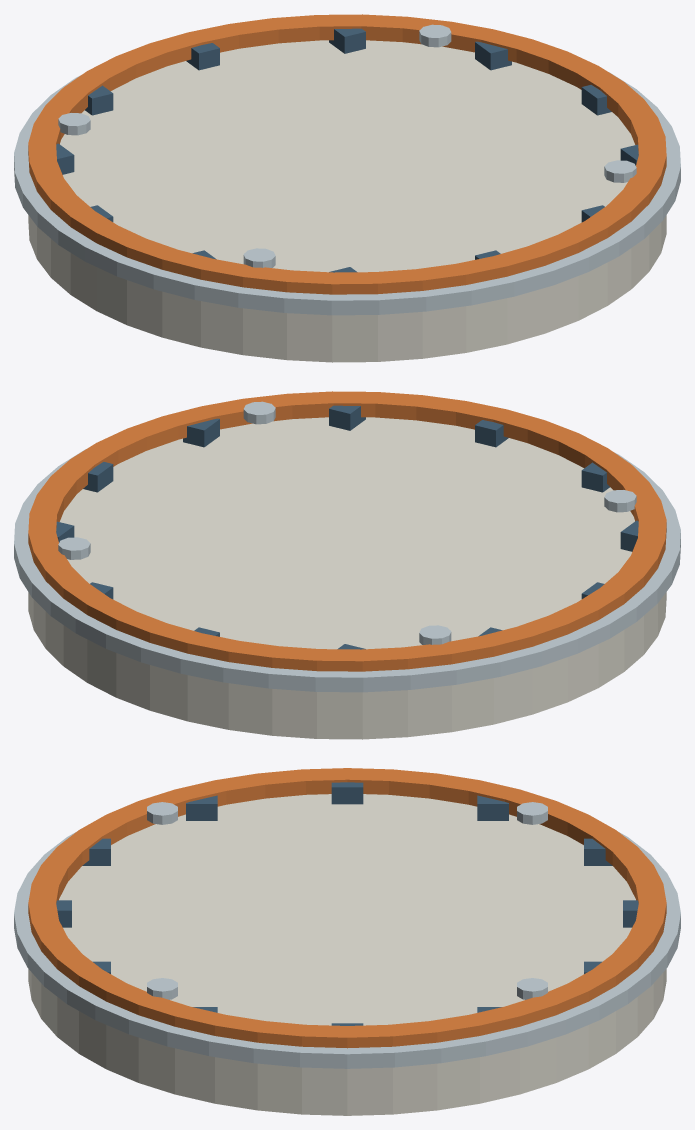
The model's file is 30_L74_ElectrostaticWaferChuck.fbx.
3 views of the same model, one above another, from view 1: azimuth 30°, elevation 25°; view 2: azimuth 150°, elevation 25°; view 3: azimuth 270°, elevation 25° (orthographic).
Parts seen in each view (by area): view 1: ElectrostaticWaferChuck_Part_0000, ElectrostaticWaferChuck_Part_0002, ElectrostaticWaferChuck_Part_0001, ElectrostaticWaferChuck, ElectrostaticWaferChuck_Part_0014, ElectrostaticWaferChuck_Part_0013, ElectrostaticWaferChuck_Part_0012, ElectrostaticWaferChuck_Part_0003, ElectrostaticWaferChuck_Part_0011; view 2: ElectrostaticWaferChuck_Part_0000, ElectrostaticWaferChuck_Part_0002, ElectrostaticWaferChuck_Part_0001, ElectrostaticWaferChuck, ElectrostaticWaferChuck_Part_0004, ElectrostaticWaferChuck_Part_0005, ElectrostaticWaferChuck_Part_0006, ElectrostaticWaferChuck_Part_0003, ElectrostaticWaferChuck_Part_0007; view 3: ElectrostaticWaferChuck_Part_0000, ElectrostaticWaferChuck_Part_0002, ElectrostaticWaferChuck_Part_0001, ElectrostaticWaferChuck, ElectrostaticWaferChuck_Part_0009, ElectrostaticWaferChuck_Part_0008, ElectrostaticWaferChuck_Part_0010, ElectrostaticWaferChuck_Part_0007, ElectrostaticWaferChuck_Part_0011.
Part boxes in pixels (bbox=[...]): ElectrostaticWaferChuck_Part_0000: bbox=[28, 40, 666, 362]; ElectrostaticWaferChuck_Part_0002: bbox=[28, 14, 666, 294]; ElectrostaticWaferChuck_Part_0001: bbox=[14, 72, 680, 315]; ElectrostaticWaferChuck: bbox=[58, 24, 636, 267]; ElectrostaticWaferChuck_Part_0014: bbox=[475, 41, 511, 70]; ElectrostaticWaferChuck_Part_0013: bbox=[329, 28, 365, 53]; ElectrostaticWaferChuck_Part_0012: bbox=[186, 43, 219, 70]; ElectrostaticWaferChuck_Part_0003: bbox=[581, 85, 611, 115]; ElectrostaticWaferChuck_Part_0011: bbox=[85, 85, 113, 115]; ElectrostaticWaferChuck_Part_0000: bbox=[28, 417, 666, 739]; ElectrostaticWaferChuck_Part_0002: bbox=[28, 391, 666, 671]; ElectrostaticWaferChuck_Part_0001: bbox=[14, 449, 680, 692]; ElectrostaticWaferChuck: bbox=[58, 401, 636, 644]; ElectrostaticWaferChuck_Part_0004: bbox=[183, 418, 219, 447]; ElectrostaticWaferChuck_Part_0005: bbox=[329, 405, 365, 430]; ElectrostaticWaferChuck_Part_0006: bbox=[475, 420, 508, 447]; ElectrostaticWaferChuck_Part_0003: bbox=[83, 462, 113, 492]; ElectrostaticWaferChuck_Part_0007: bbox=[581, 462, 609, 492]; ElectrostaticWaferChuck_Part_0000: bbox=[28, 794, 666, 1115]; ElectrostaticWaferChuck_Part_0002: bbox=[28, 768, 666, 1048]; ElectrostaticWaferChuck_Part_0001: bbox=[14, 832, 680, 1068]; ElectrostaticWaferChuck: bbox=[147, 802, 547, 999]; ElectrostaticWaferChuck_Part_0009: bbox=[331, 782, 363, 804]; ElectrostaticWaferChuck_Part_0008: bbox=[186, 795, 217, 820]; ElectrostaticWaferChuck_Part_0010: bbox=[477, 795, 508, 820]; ElectrostaticWaferChuck_Part_0007: bbox=[82, 838, 110, 865]; ElectrostaticWaferChuck_Part_0011: bbox=[584, 838, 612, 865].
Size of the model in its own units: 144 by 20.1 by 144.
